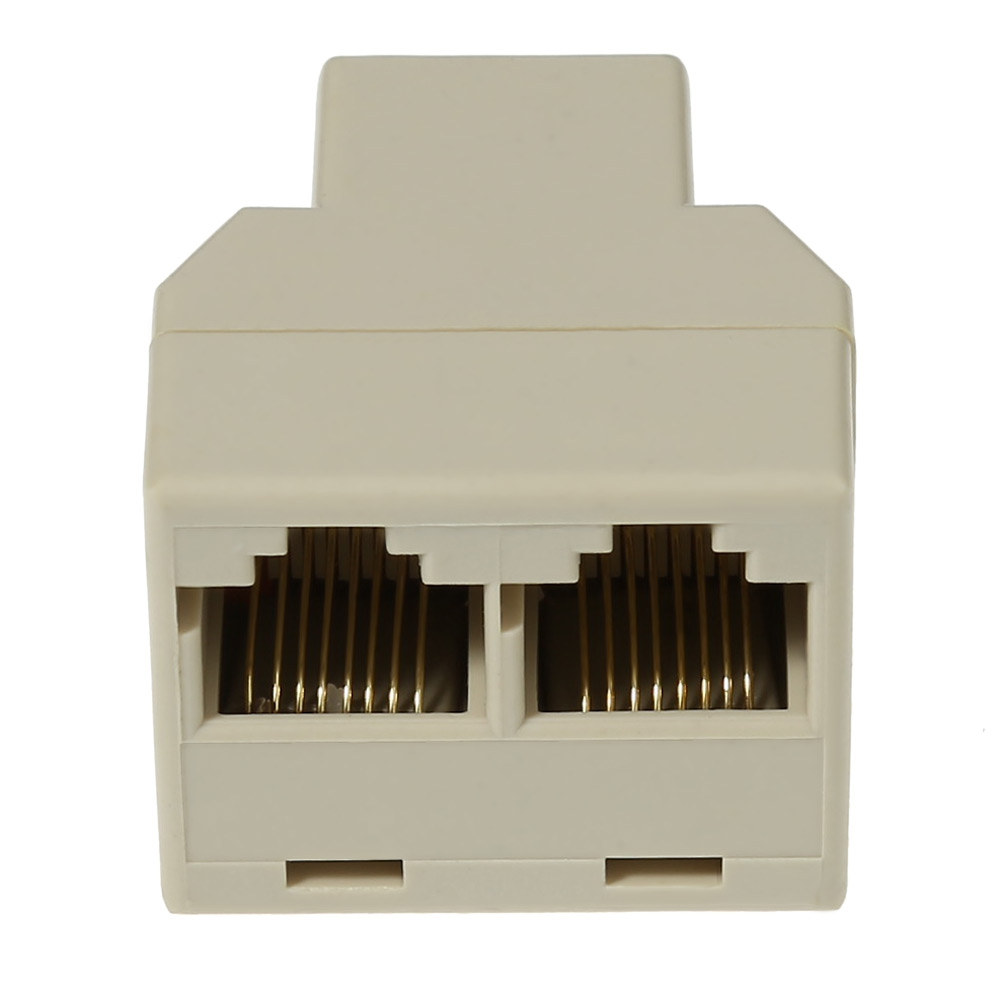lan: (497, 513, 828, 750), (171, 511, 496, 750)
